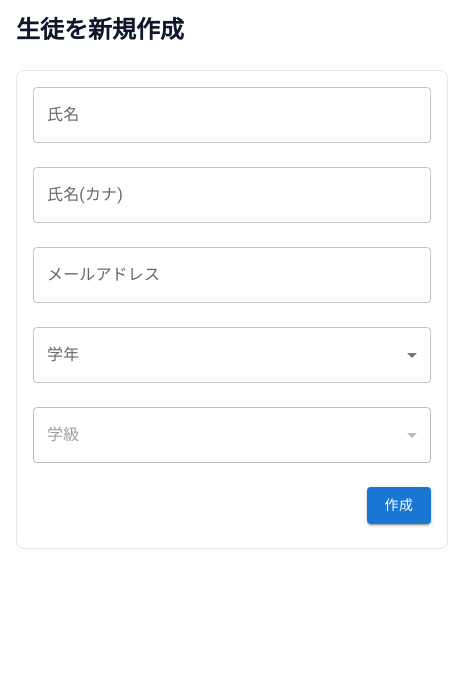
Scenario: CreateStudent Presenter › メールアドレスの形式が不正なときはエラーが表示される
Type "invalid-email" into the field labelled "メールアドレス" at [232, 275], box x1=33 y1=247 x2=431 y2=303
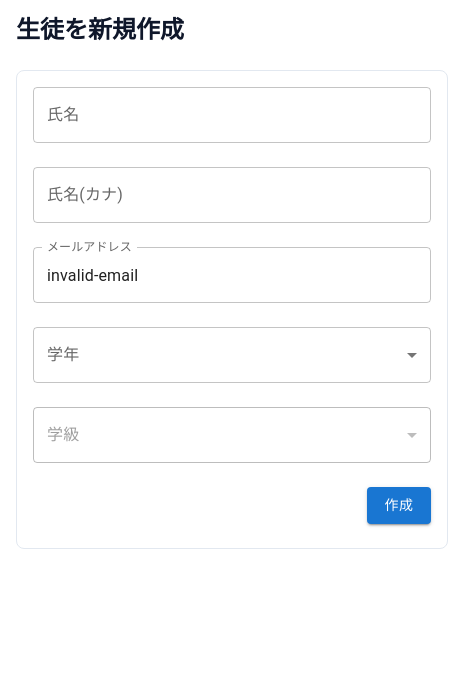
Click the button "作成" at [399, 505], box x1=367 y1=487 x2=431 y2=524
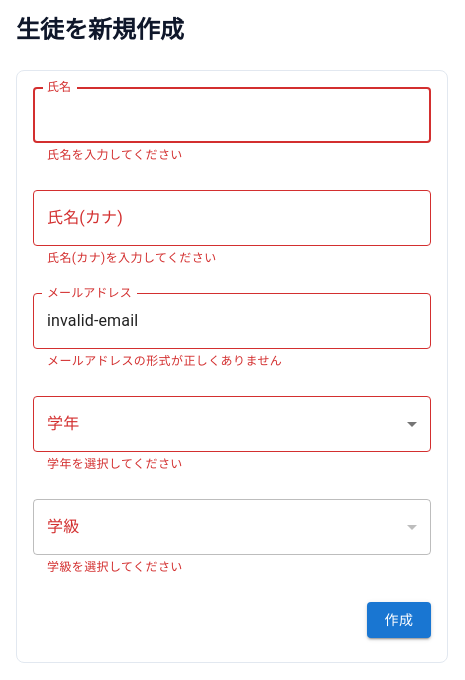
Check: the text "メールアドレスの形式が正しくありません" is shown, box x1=47 y1=354 x2=282 y2=368
